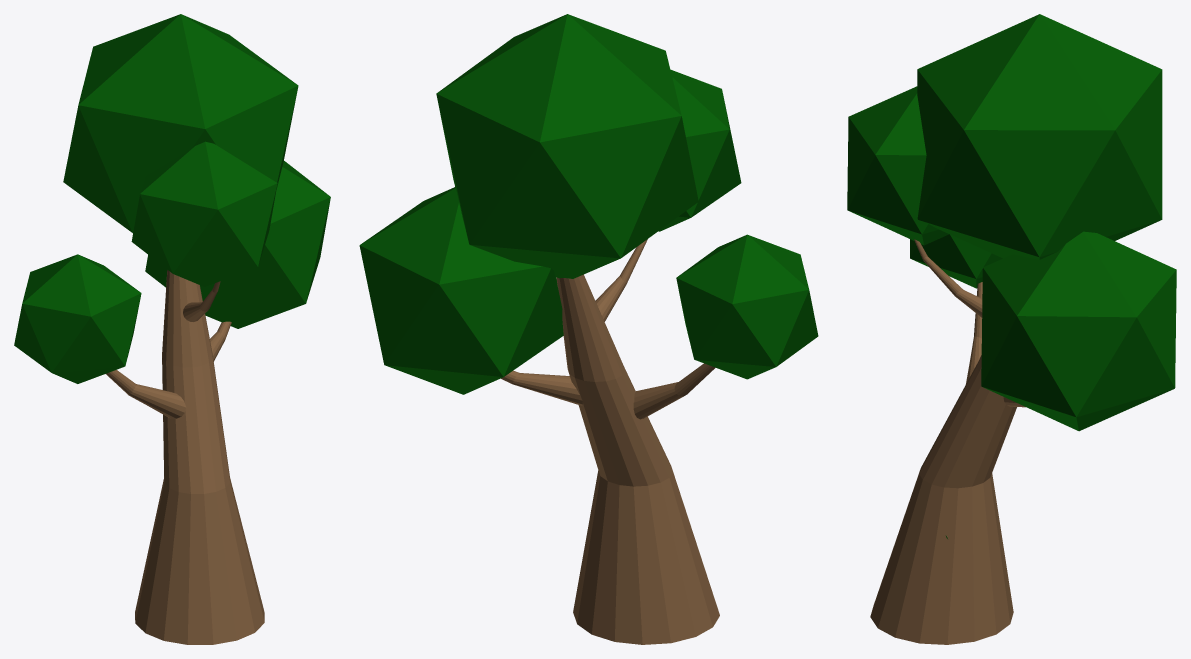
The model's file is Tree4.fbx.
The picture shows the model from 3 angles, left to right: view 1: azimuth 30°, elevation 25°; view 2: azimuth 150°, elevation 25°; view 3: azimuth 270°, elevation 25°; orthographic projection. The views are drawn at different scales.
Parts seen in each view (by area): view 1: Cylinder; view 2: Cylinder; view 3: Cylinder.
Part boxes in pixels (x1,y1,x2,y2): Cylinder: (14,14,330,644); Cylinder: (359,14,818,644); Cylinder: (847,14,1176,644).
Size of the model in its own units: 426 by 668 by 324.
